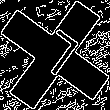L_SW: (28, 25, 82, 85)
